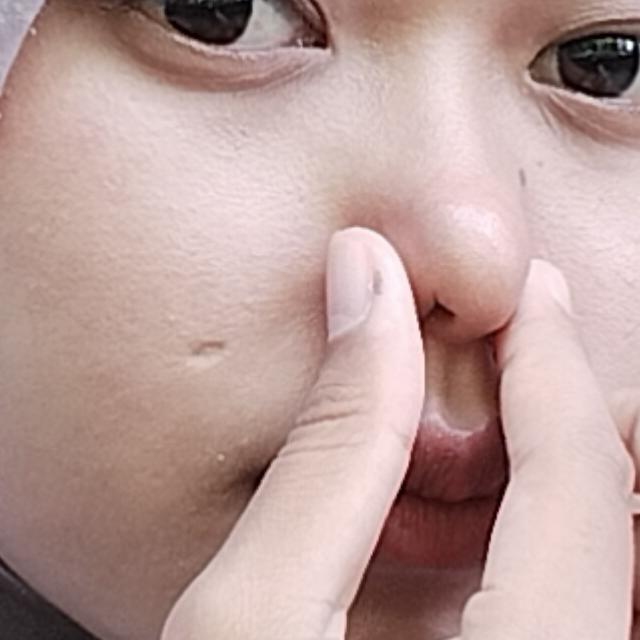bau: (66, 158, 640, 640)
